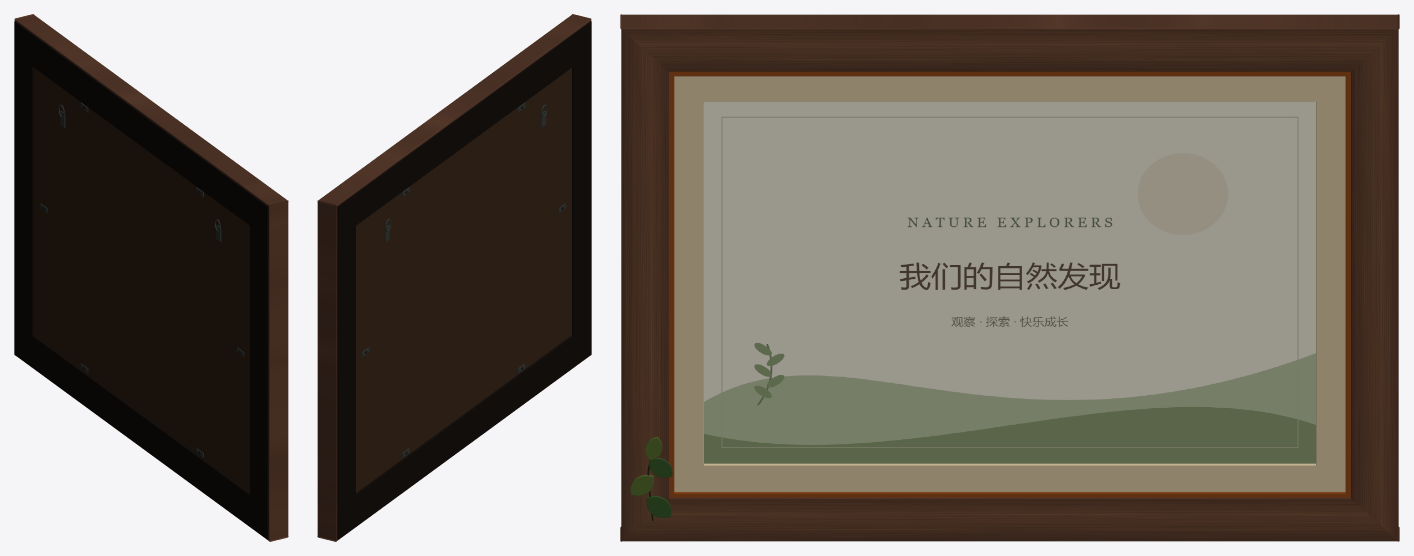
File: kindergarten-frame.fbx
3 views of the same model, side by side, from view 1: azimuth 30°, elevation 25°; view 2: azimuth 150°, elevation 25°; view 3: azimuth 270°, elevation 25° (orthographic). The views are drawn at different scales.
Visible parts, largest first — view 1: removable_rear_backing, rear_structural_frame, wood_rail_left, wood_rail_top; view 2: removable_rear_backing, rear_structural_frame, wood_rail_right, wood_rail_top; view 3: 照片, cream_photo_matboard, wood_rail_top, wood_rail_bottom, wood_rail_right, wood_rail_left, honey_orange_inner_bead.
Part boxes in pixels (x1,y1,x2,y2): removable_rear_backing: (34, 68, 249, 492); rear_structural_frame: (14, 21, 268, 539); wood_rail_left: (268, 200, 288, 541); wood_rail_top: (15, 14, 288, 205); removable_rear_backing: (356, 68, 571, 492); rear_structural_frame: (337, 21, 591, 539); wood_rail_right: (317, 200, 337, 541); wood_rail_top: (317, 14, 590, 205); 照片: (704, 102, 1315, 463); cream_photo_matboard: (674, 76, 1345, 491); wood_rail_top: (620, 14, 1399, 71); wood_rail_bottom: (620, 497, 1399, 541); wood_rail_right: (1351, 14, 1398, 541); wood_rail_left: (621, 14, 668, 541); honey_orange_inner_bead: (669, 71, 1350, 497).
Size of the model in its own units: 0.0466 by 0.6437 by 0.8837.
11 materials, 2 textured.
